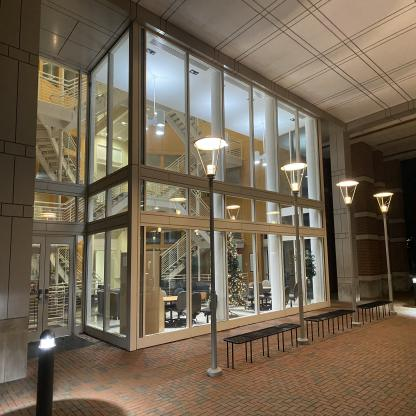eb2: (1, 3, 415, 415), (1, 1, 380, 304)
